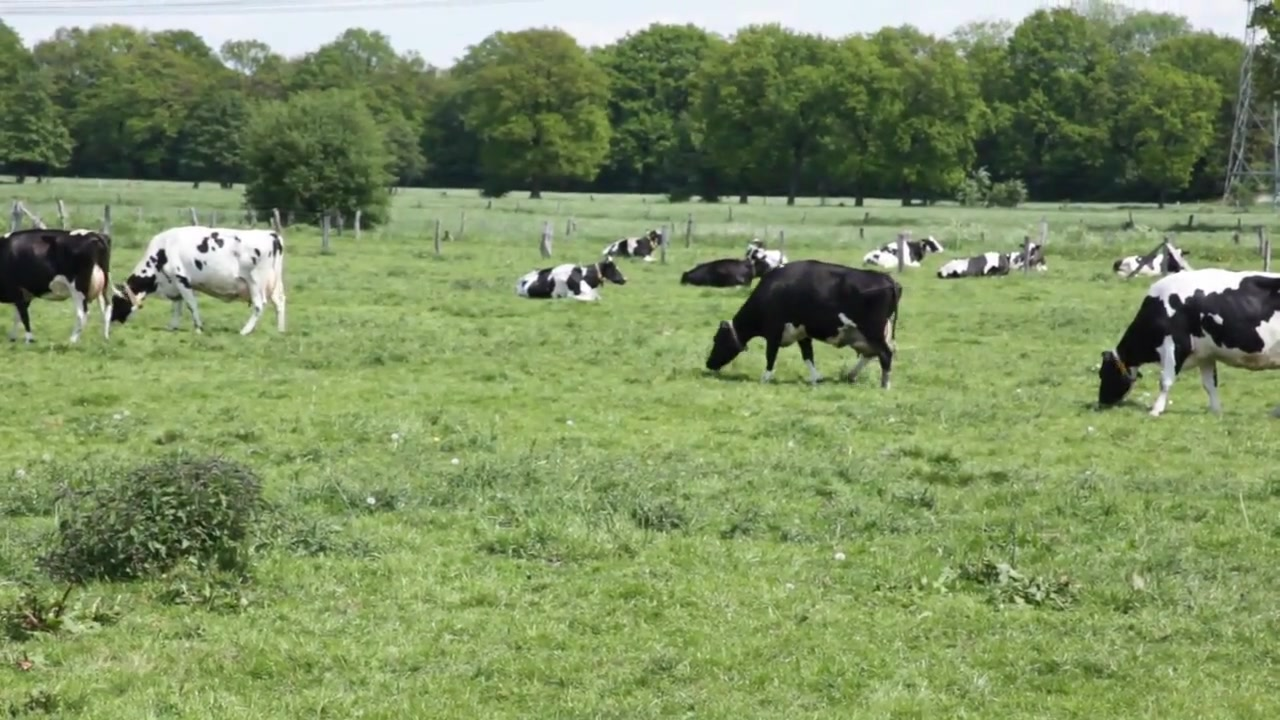cow: (707, 263, 903, 387)
